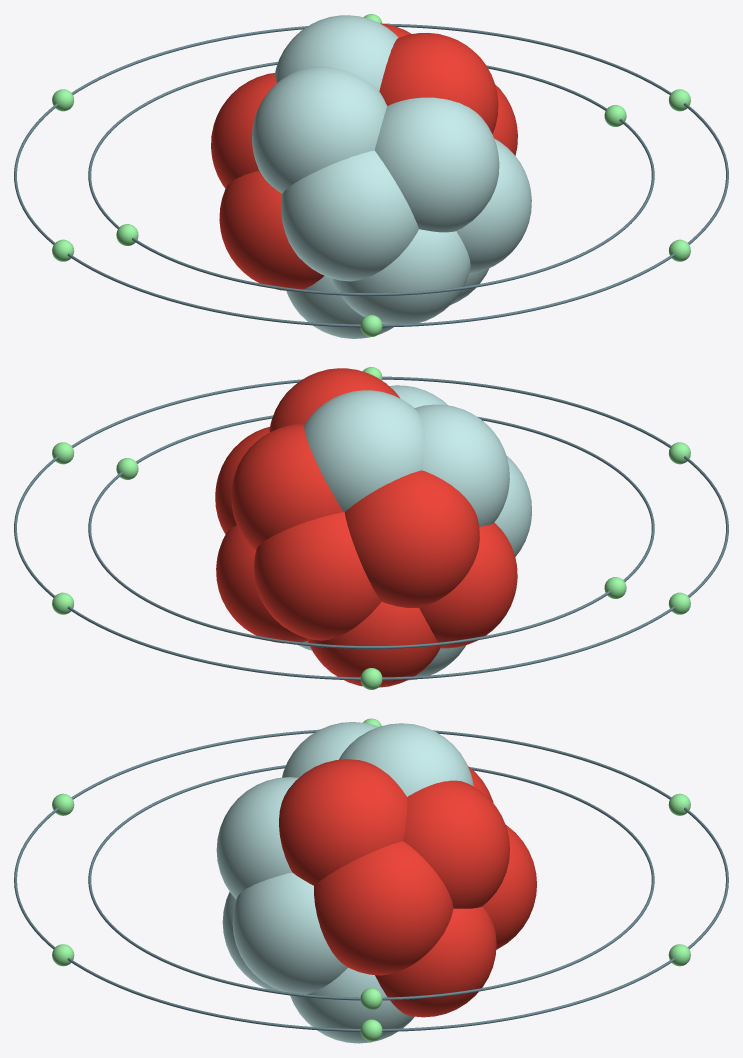
File: oxygen.glb
The picture shows the model from 3 angles, top to bottom: view 1: azimuth 30°, elevation 25°; view 2: azimuth 150°, elevation 25°; view 3: azimuth 270°, elevation 25°; orthographic projection.
Visible parts, largest first — view 1: element_008_oxygen; view 2: element_008_oxygen; view 3: element_008_oxygen.
Boxes of the visible parts, <box> form: element_008_oxygen: <box>14,14,728,338</box>; element_008_oxygen: <box>14,367,728,689</box>; element_008_oxygen: <box>14,718,728,1043</box>.
Bounding box in the file's own units: 8.39 × 3.66 × 8.17.
